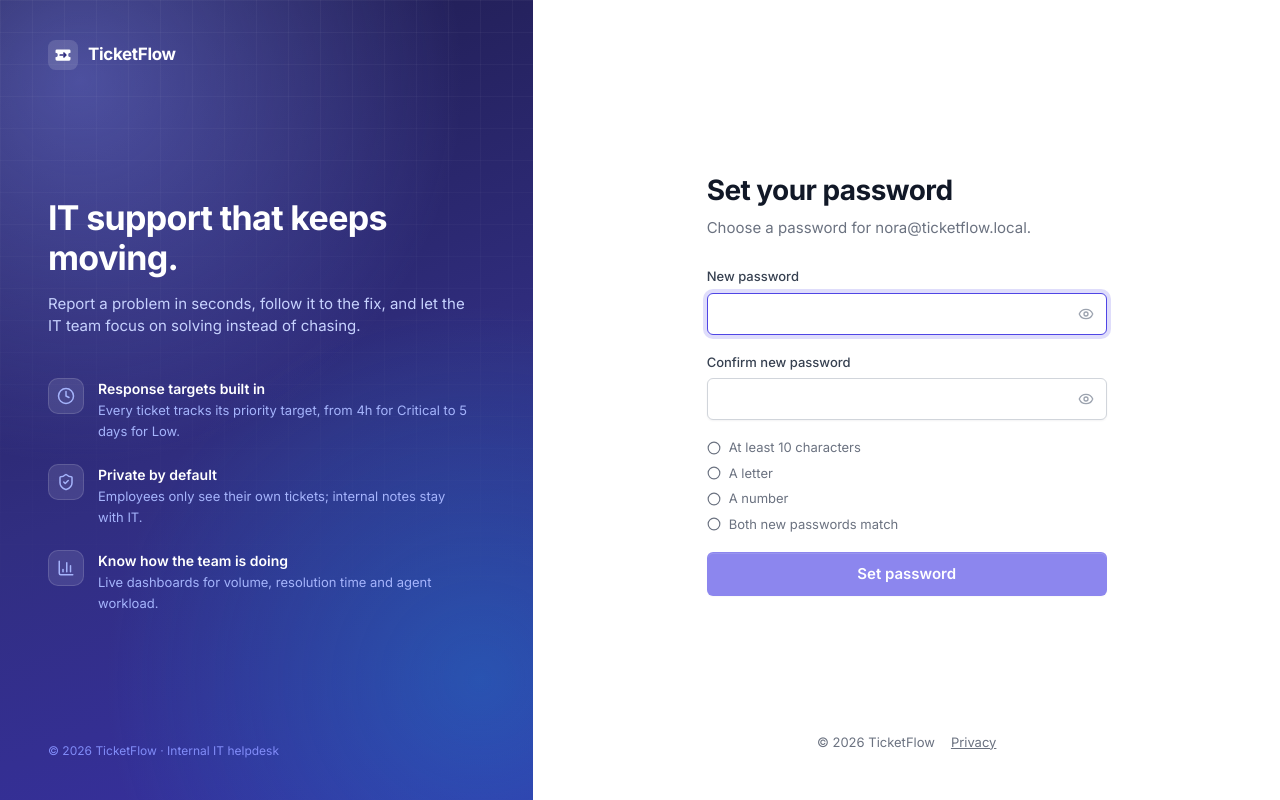
Set your password (one-time link) › a link that stopped working meanwhile (e.g. used in another tab) switches to its message
Expected: the button "Set password" is shown, [707,552,1107,596]
Type "my-own-pass42" into the password field labelled "New password". click: (907, 314)
box: [707,292,1107,334]
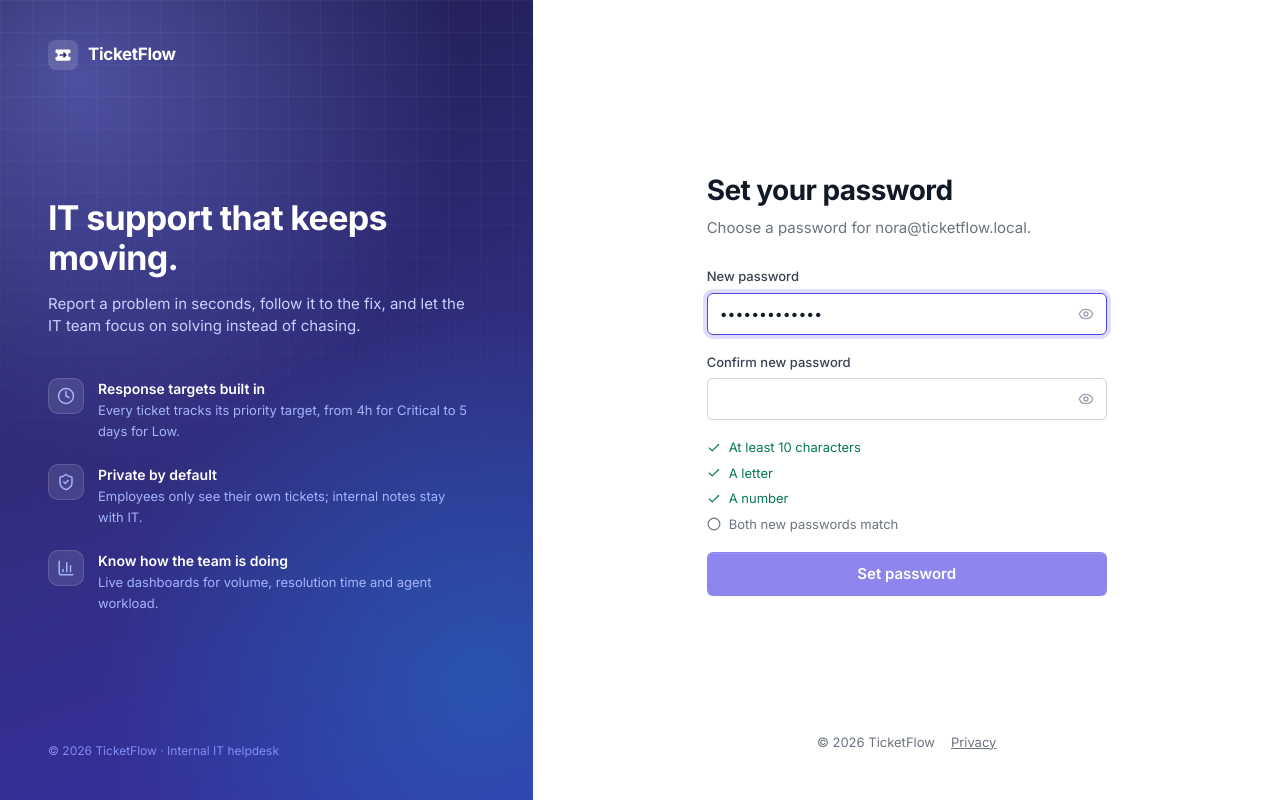
Type "my-own-pass42" into the password field labelled "Confirm new password". click: (907, 399)
box: [707,378,1107,420]
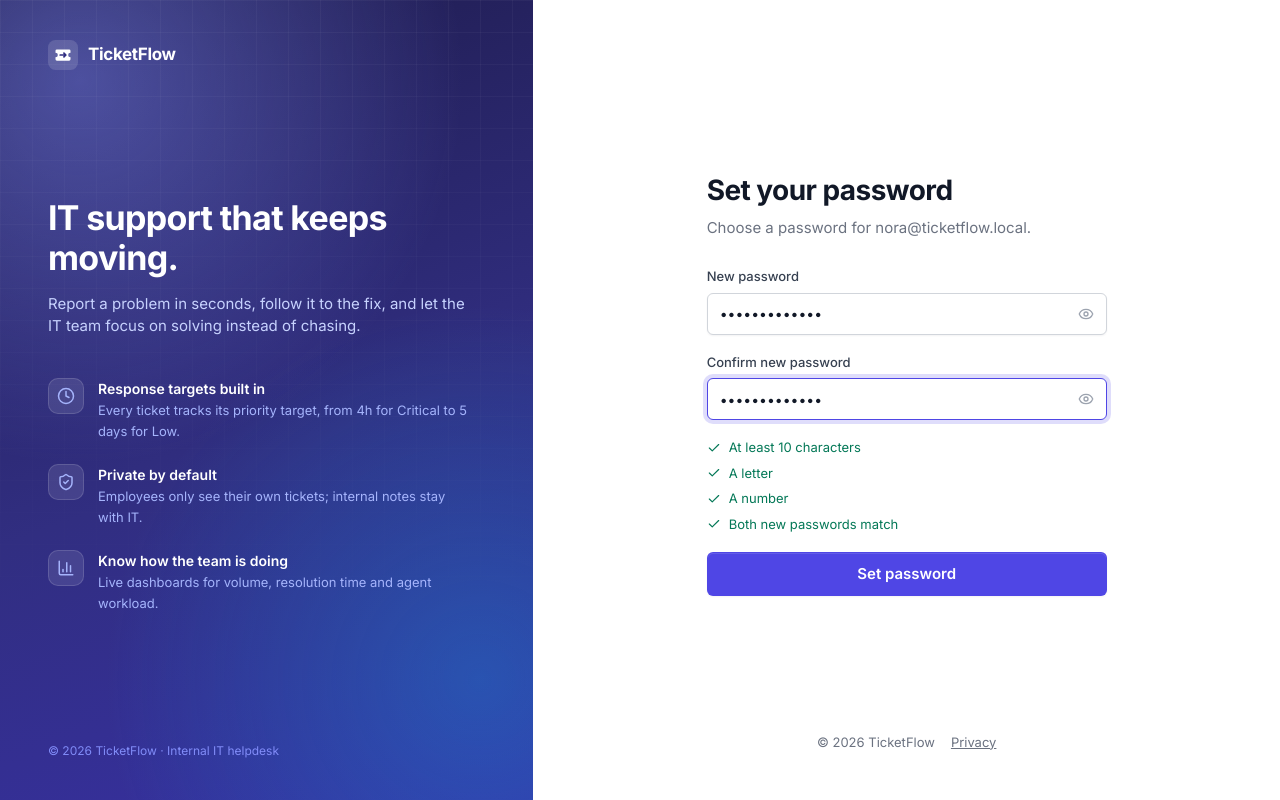
Click the button "Set password". click: (907, 574)
box: [707,552,1107,596]
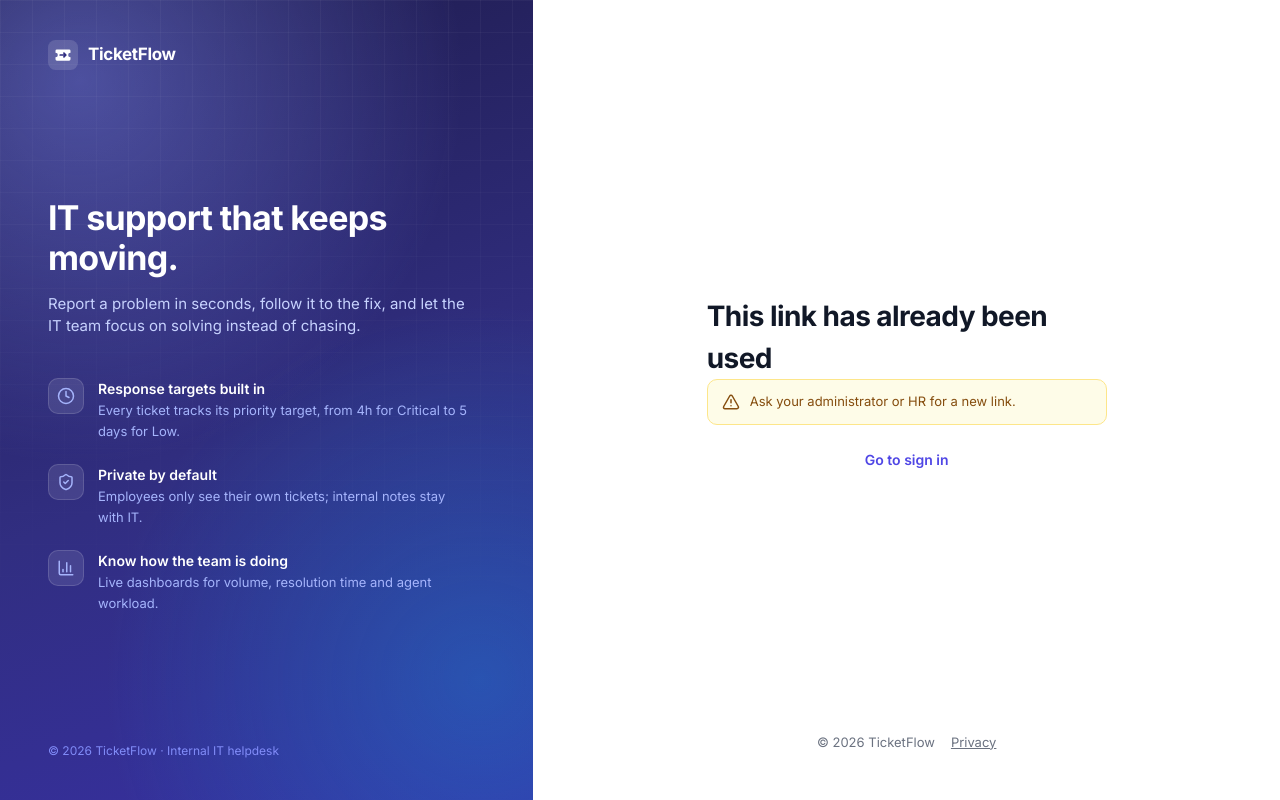
Now the heading "This link has already been used" is shown, box [707,295,1107,379]
Now the message reads "Ask your administrator or HR for a new link.", box [750,393,1016,409]
Now the label labelled "New password" is gone
